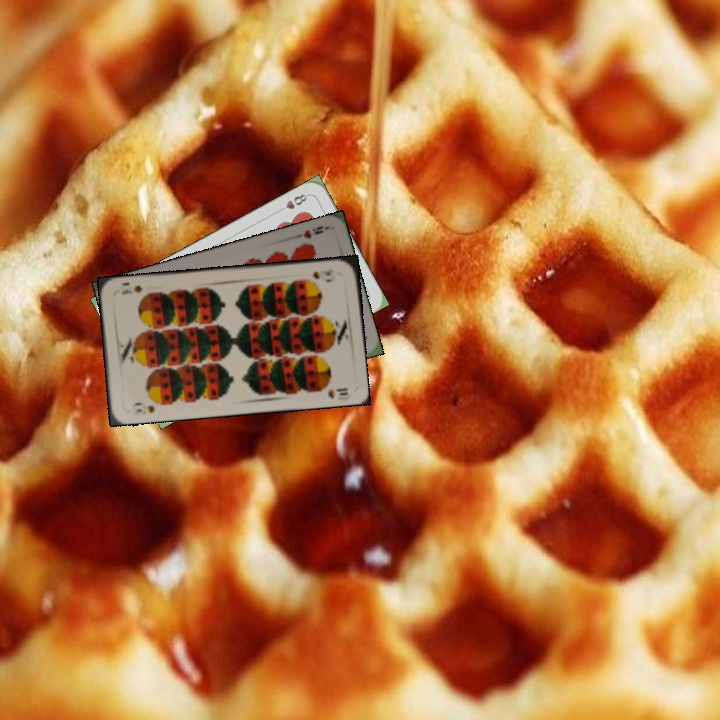H8: (274, 190, 311, 215)
H9: (290, 222, 330, 241)
S10: (309, 264, 337, 281), (130, 399, 157, 415)
